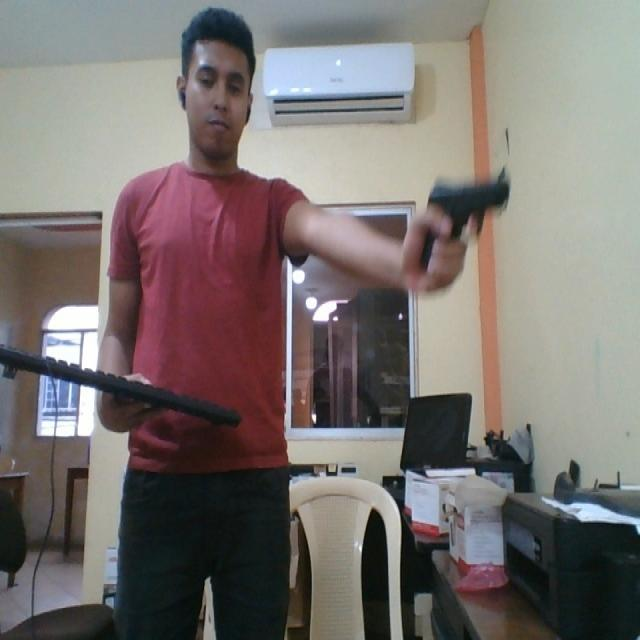weapon: (410, 175, 512, 266)
